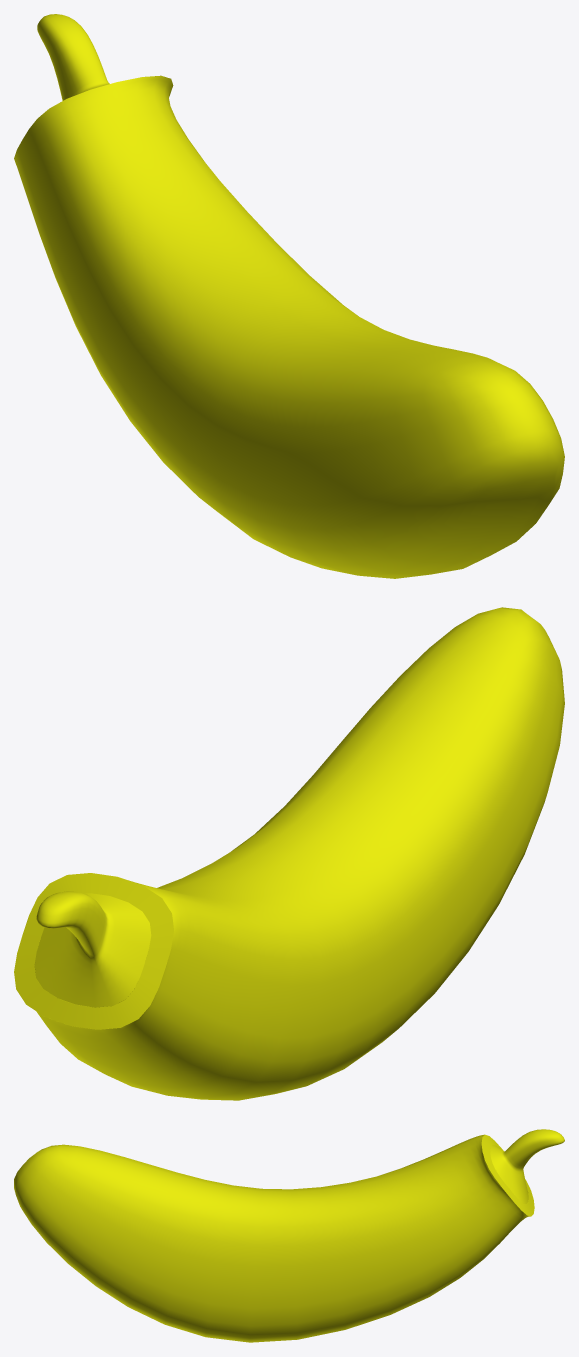
Rendered from banana.fbx.
3 renders of one model, top to bottom at view 1: azimuth 30°, elevation 25°; view 2: azimuth 150°, elevation 25°; view 3: azimuth 270°, elevation 25°, orthographic. The views are drawn at different scales.
Parts seen in each view (by area): view 1: Cube.005; view 2: Cube.005; view 3: Cube.005.
Part boxes in pixels (x1=…): Cube.005: x1=14, y1=14, x2=564, y2=578; Cube.005: x1=14, y1=607, x2=564, y2=1100; Cube.005: x1=14, y1=1129, x2=564, y2=1342.
Size of the model in its own units: 6.58 by 11.72 by 29.71.
